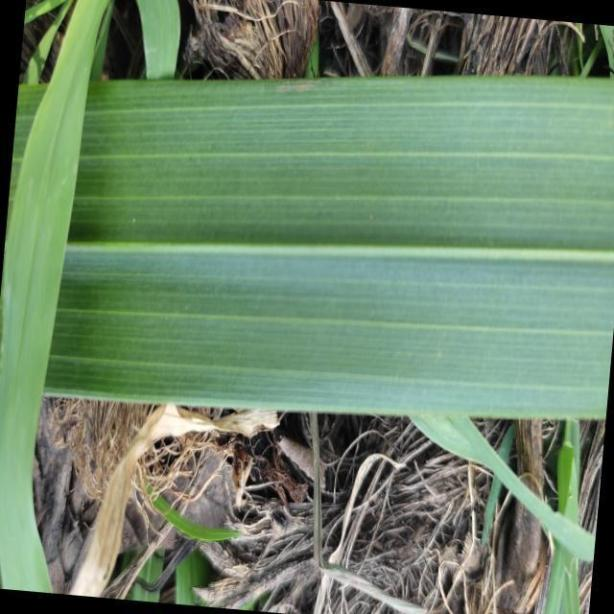Healthy: (5, 75, 614, 422)
